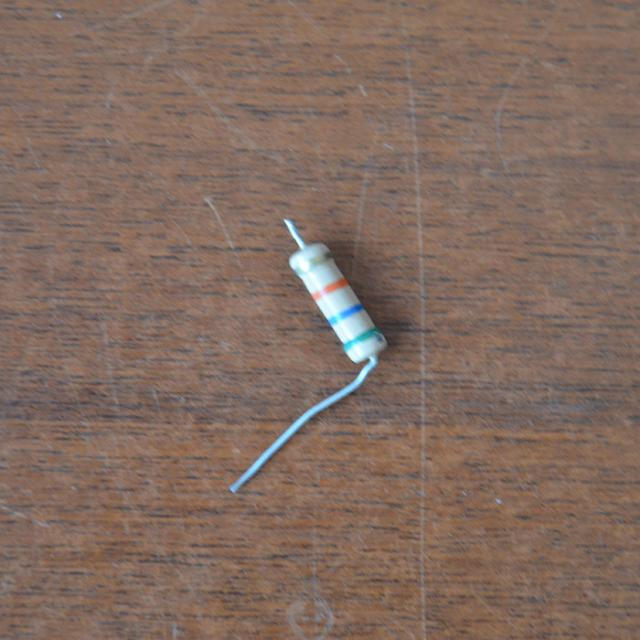blue: (328, 303, 362, 324)
gold: (295, 251, 331, 272)
green: (343, 328, 379, 349)
orange: (314, 277, 347, 298)
resistor: (264, 228, 396, 385)
